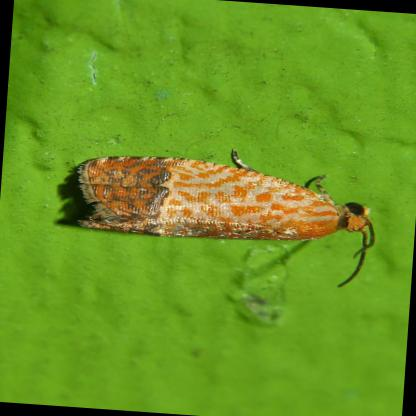Leaf Webber: (73, 144, 382, 292)
